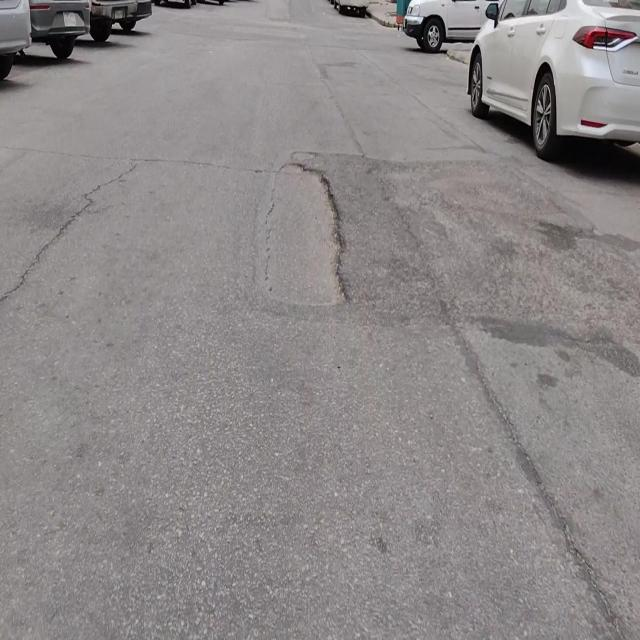Pothole: (263, 161, 349, 309)
